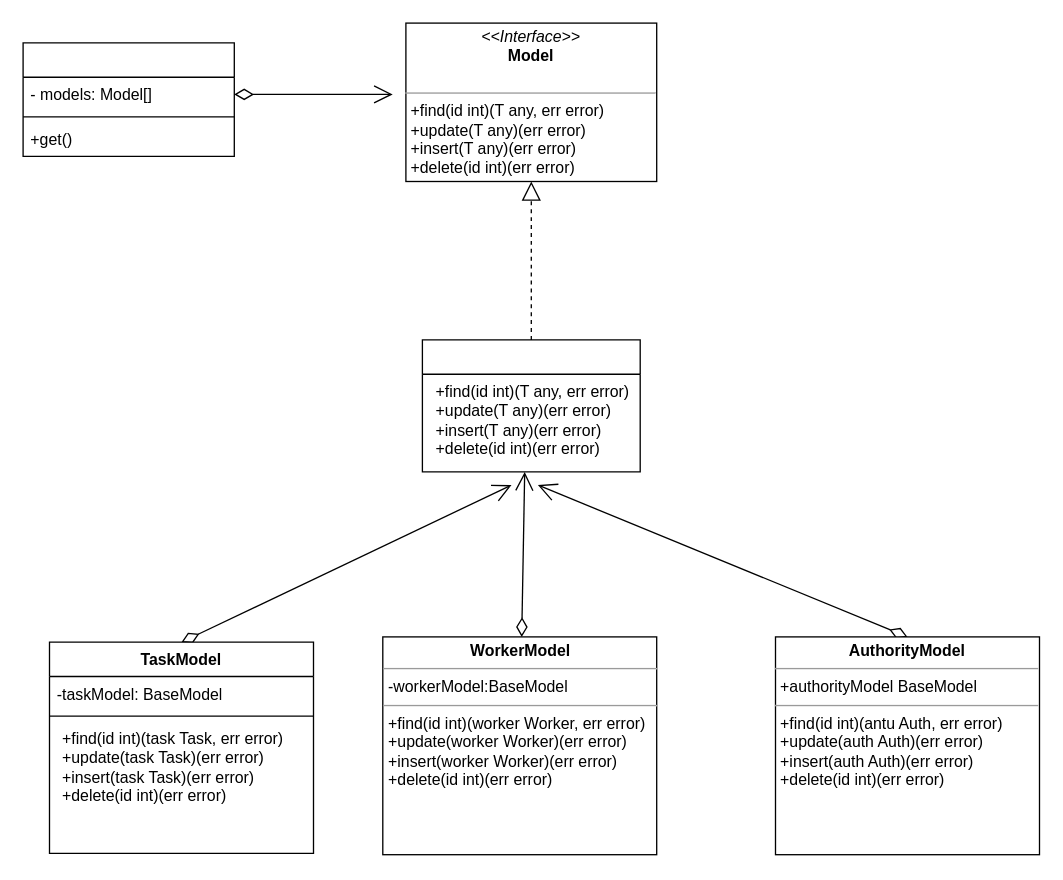
This 1063x880 diagram has some shape labels left out. Here are the shapes that lost their labels. From the top down, the box of each, then its label:
(22, 42, 234, 156): ModelManager
(421, 339, 640, 472): BaseModel
